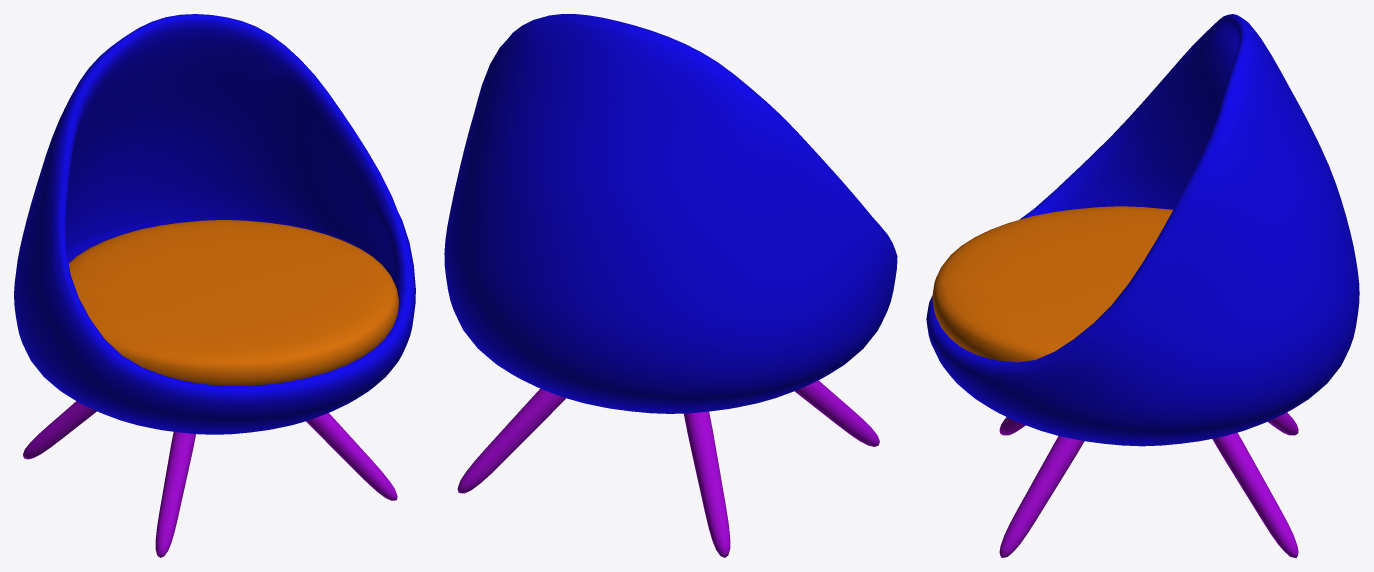
The model's file is chair_round_2.fbx.
The picture shows the model from 3 angles, left to right: view 1: azimuth 30°, elevation 25°; view 2: azimuth 150°, elevation 25°; view 3: azimuth 270°, elevation 25°; orthographic projection. The views are drawn at different scales.
Parts seen in each view (by area): view 1: chair_round; view 2: chair_round; view 3: chair_round.
Part boxes in pixels (x1,y1,x2,y2): chair_round: [14, 14, 415, 557]; chair_round: [444, 14, 897, 557]; chair_round: [926, 14, 1359, 557].
Bounding box in the file's own units: 105 × 124 × 105.
